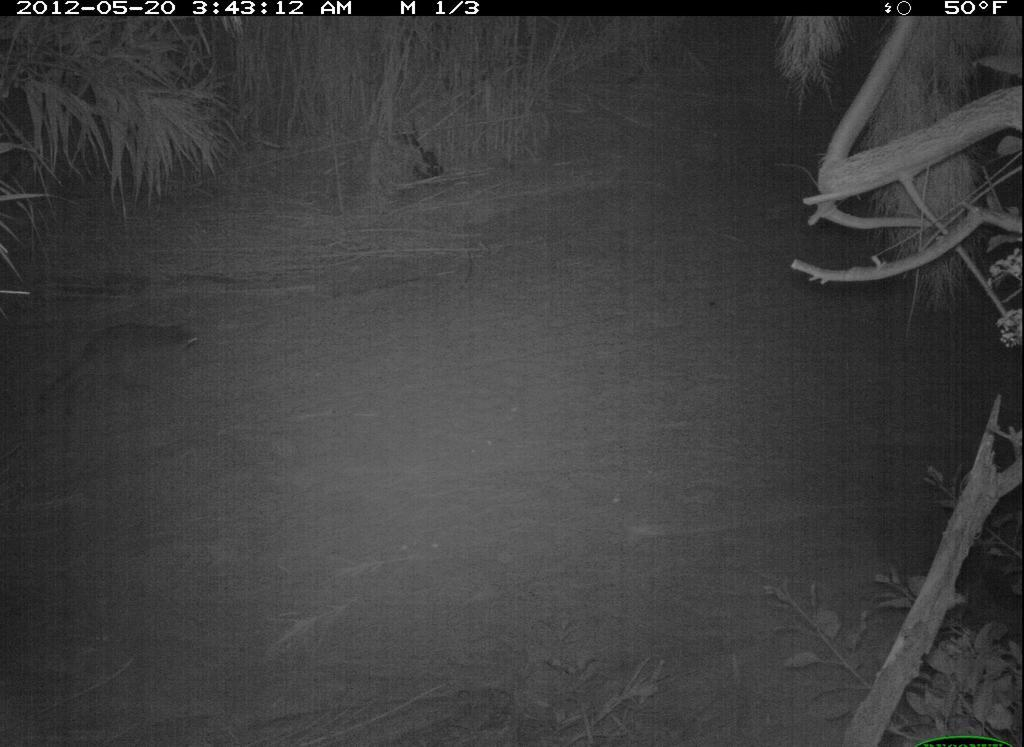raccoon: (50, 310, 213, 420)
